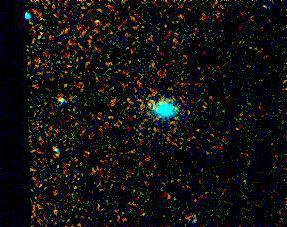star: (137, 84, 167, 114)
